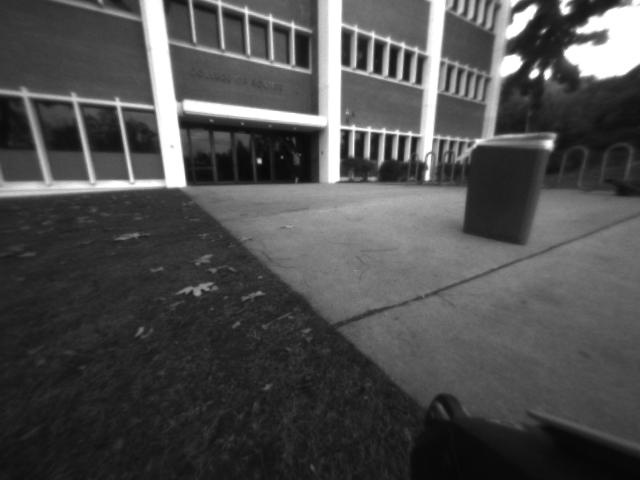trashcan_open: (461, 127, 559, 251)
